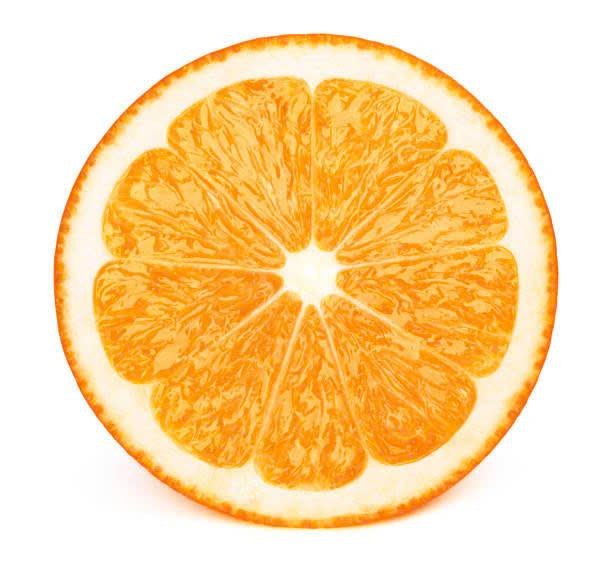orange: (26, 27, 561, 533)
